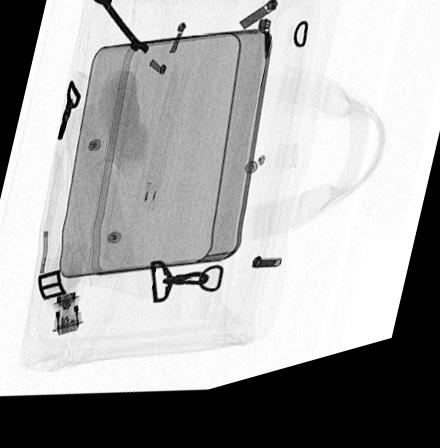Wrench: (91, 0, 149, 60)
